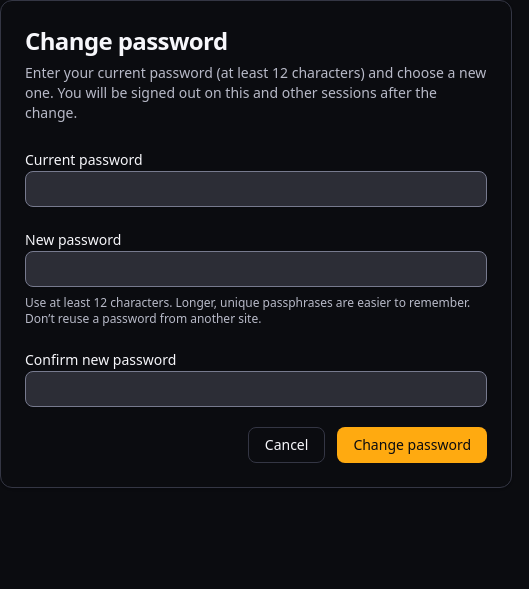
self-service password change › explains an incorrect current password without discarding the session
The image size is (529, 589).
Type "incorrect-test-password" into the password field labelled "Current password" at [256, 189], box [25,171,487,207]
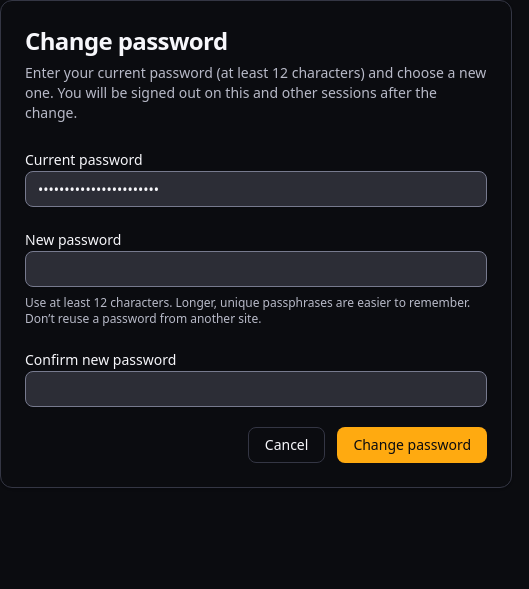
Type "replacement-test-password" into the password field labelled "New password" at [256, 269], box [25,251,487,287]
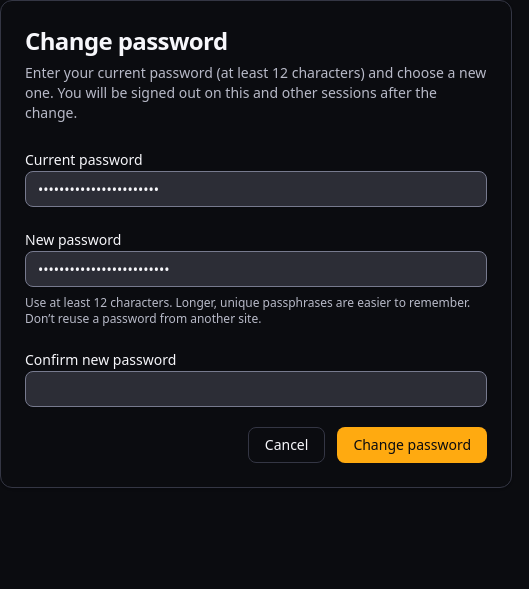
Type "replacement-test-password" into the password field labelled "Confirm new password" at [256, 389], box [25,371,487,407]
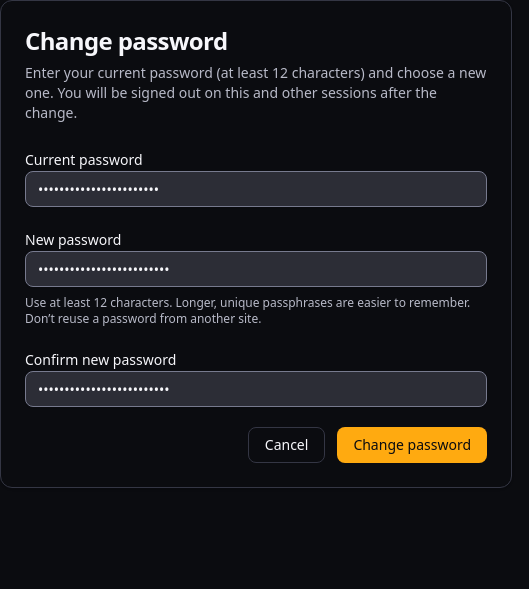
Click the button "Change password" at [412, 445], box [337,427,487,463]
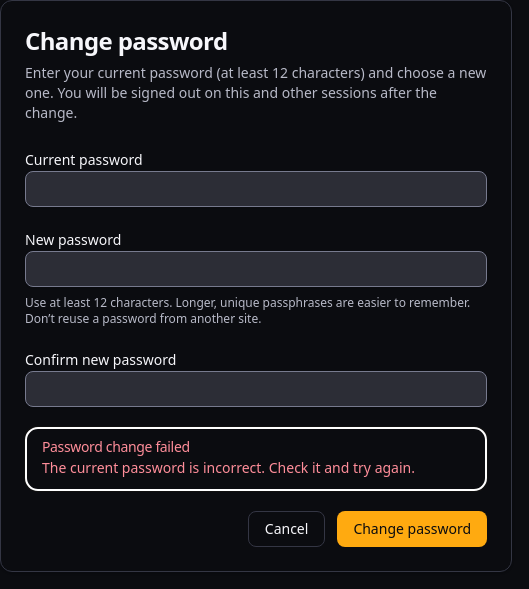
expect the message shows "The current password is incorrect": met, box [42,458,415,477]
expect the password field labelled "Current password" is empty: met, box [25,171,487,207]
expect the password field labelled "New password" is empty: met, box [25,251,487,287]
